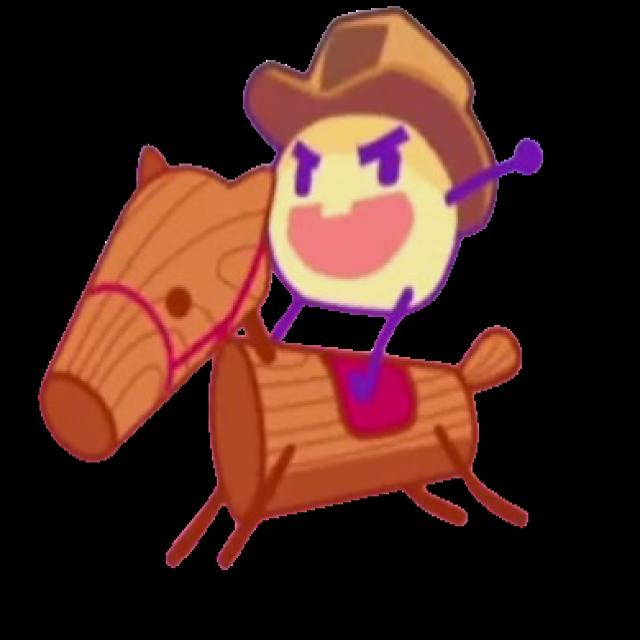qiu: (36, 4, 543, 572)
